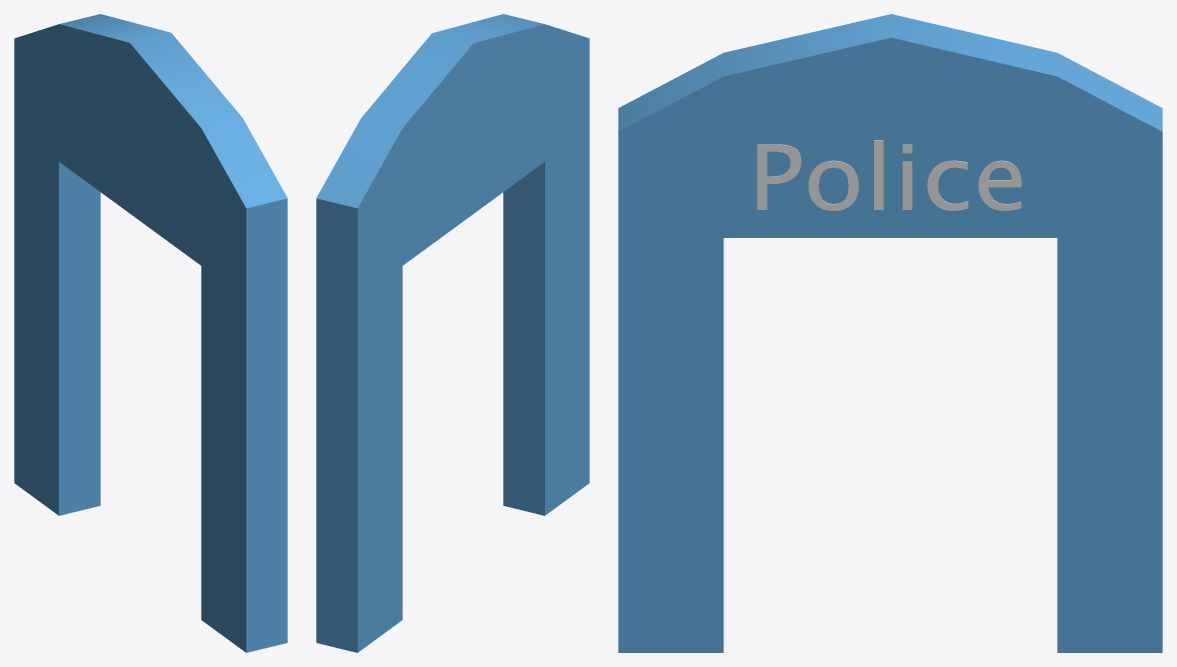
File: police_door.fbx
3 views of the same model, side by side, from view 1: azimuth 30°, elevation 25°; view 2: azimuth 150°, elevation 25°; view 3: azimuth 270°, elevation 25° (orthographic). The views are drawn at different scales.
Visible parts, largest first — view 1: pCube1; view 2: pCube1; view 3: pCube1, TYPE.
Boxes of the visible parts, bbox=[...] form: pCube1: bbox=[14, 14, 287, 652]; pCube1: bbox=[316, 14, 589, 652]; pCube1: bbox=[618, 14, 1162, 652]; TYPE: bbox=[757, 140, 1021, 210].
Bounding box in the file's own units: 1.02 × 12.1 × 9.7.
